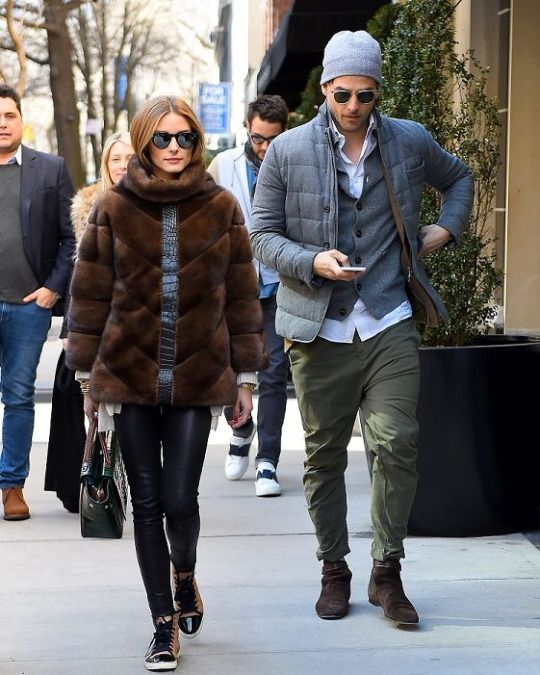Person: (267, 29, 473, 627), (67, 95, 265, 670), (1, 83, 66, 520)
